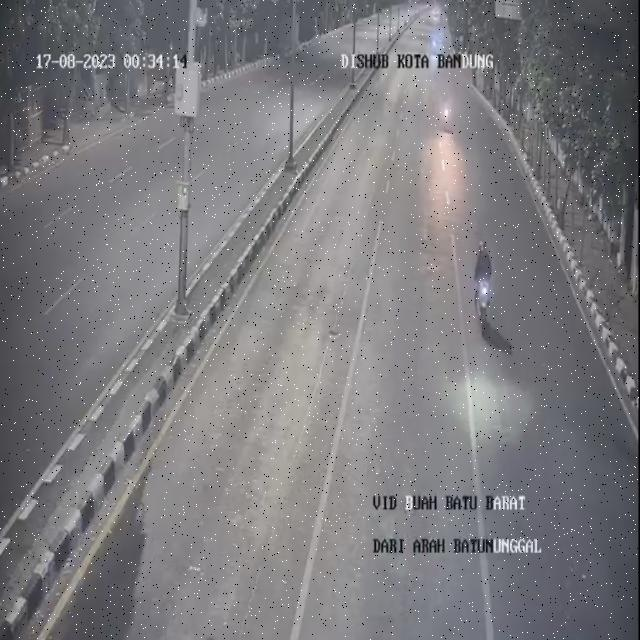motorcycle: (464, 236, 505, 343), (440, 90, 456, 136)
